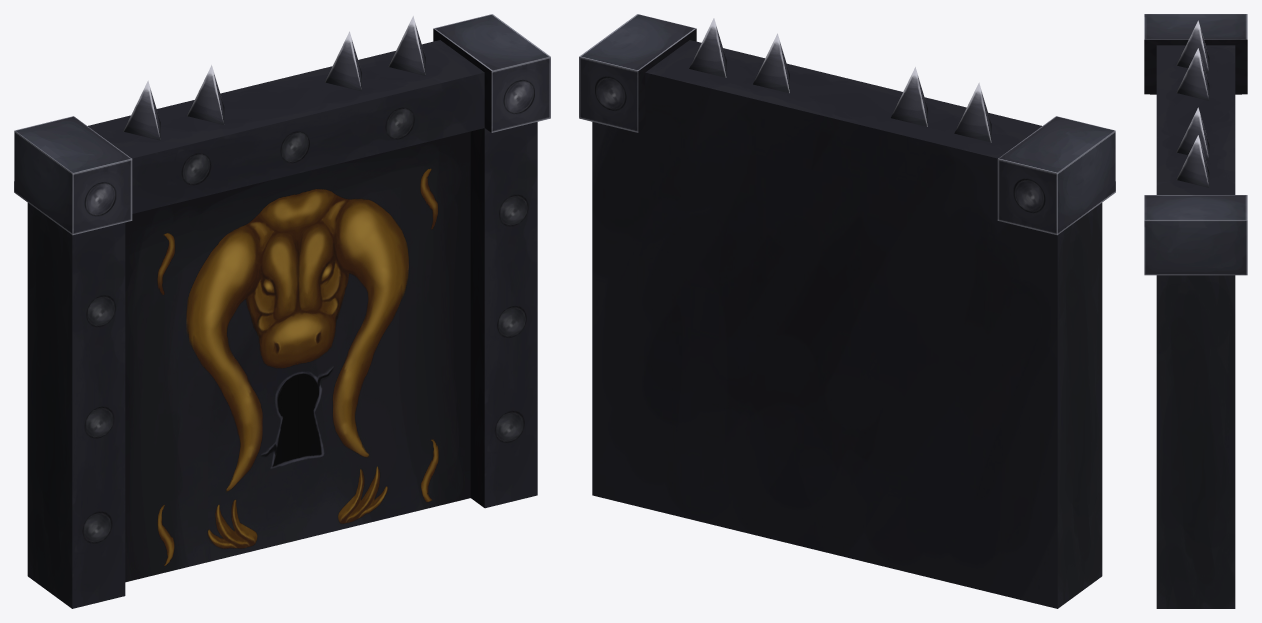
File: boss_door_2.FBX
The picture shows the model from 3 angles, left to right: view 1: azimuth 30°, elevation 25°; view 2: azimuth 150°, elevation 25°; view 3: azimuth 270°, elevation 25°; orthographic projection. The views are drawn at different scales.
Visible parts, largest first — view 1: R_BossDoor, L_BossDoor; view 2: R_BossDoor, L_BossDoor; view 3: L_BossDoor, R_BossDoor.
Part boxes in pixels (x1,y1,x2,y2): R_BossDoor: [14, 65, 312, 608]; L_BossDoor: [268, 14, 550, 539]; R_BossDoor: [817, 67, 1115, 608]; L_BossDoor: [579, 14, 861, 550]; L_BossDoor: [1144, 107, 1247, 608]; R_BossDoor: [1144, 14, 1247, 125].
Bounding box in the file's own units: 451 × 439 × 95.51.
Materials: 1 (1 with a texture image).
